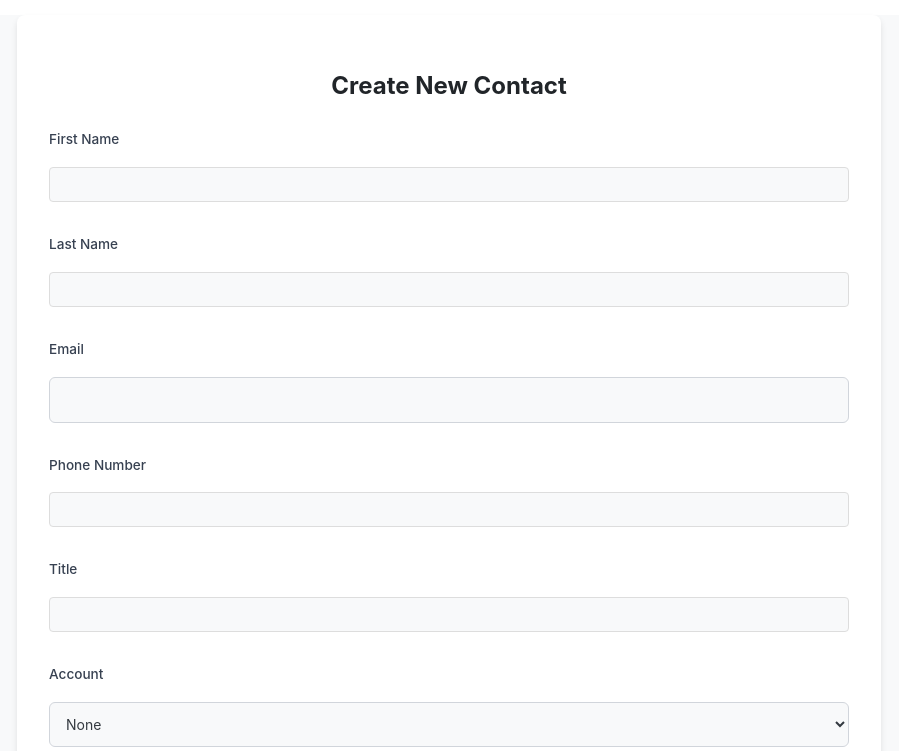
Scenario: ContactForm Component - REQ-101.1 › Form Submission - Create Mode › handles API errors gracefully
Note: Fill required fields
Step 1. Type "Jane" into the field labelled "First Name" → (449,184), box top-left (49, 167), bottom-right (849, 202)
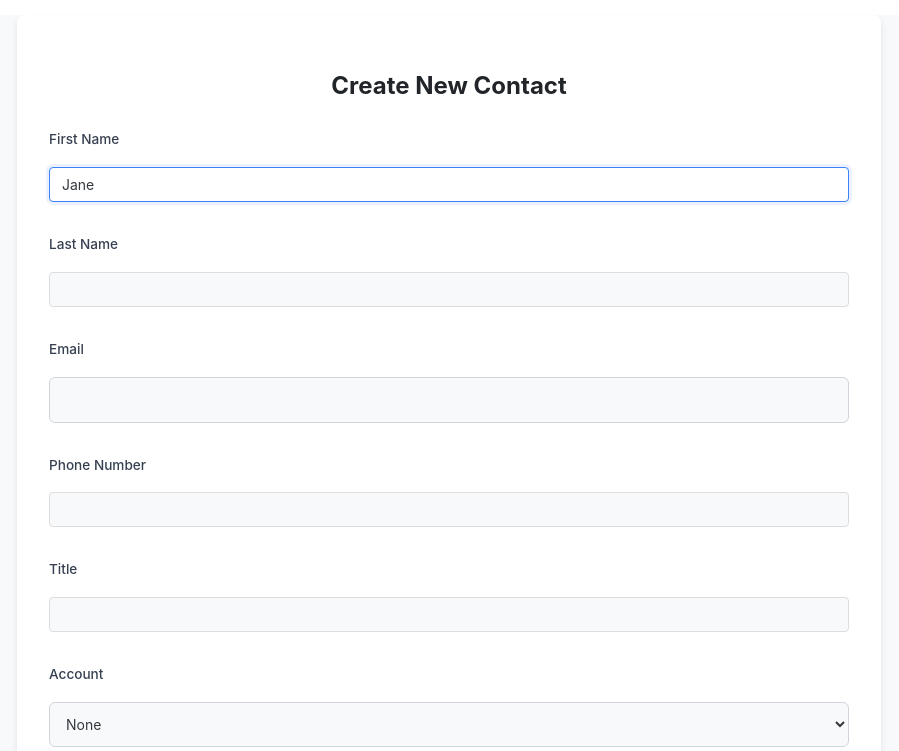
Step 2. Type "Smith" into the field labelled "Last Name" → (449,289), box top-left (49, 272), bottom-right (849, 307)
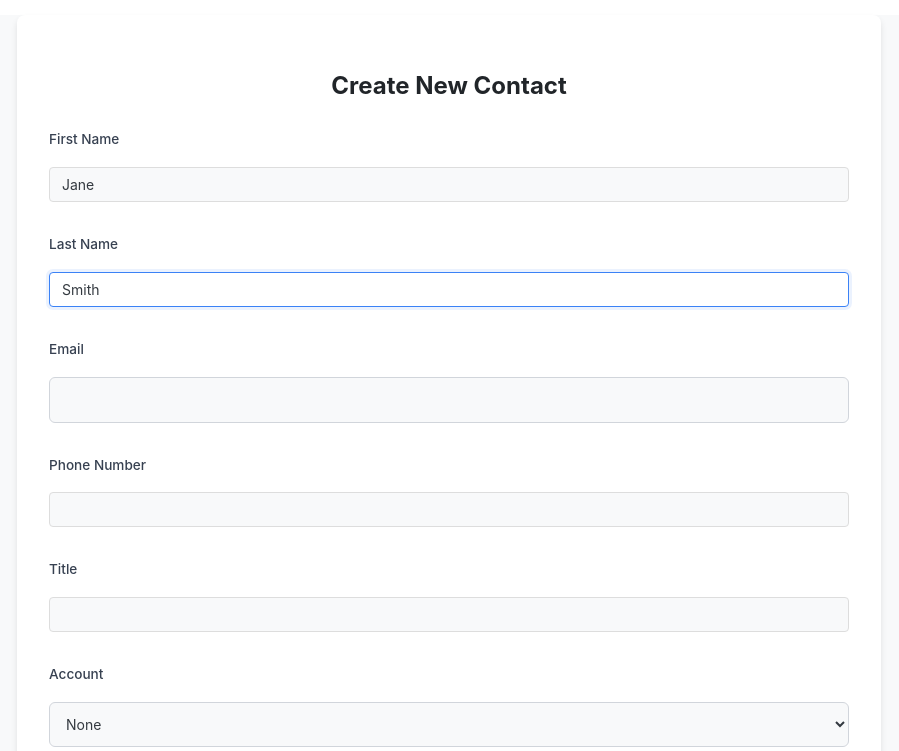
Step 3. Type "existing@example.com" into the field labelled "Email" → (449,400), box top-left (49, 376), bottom-right (849, 422)
(page scrolled)
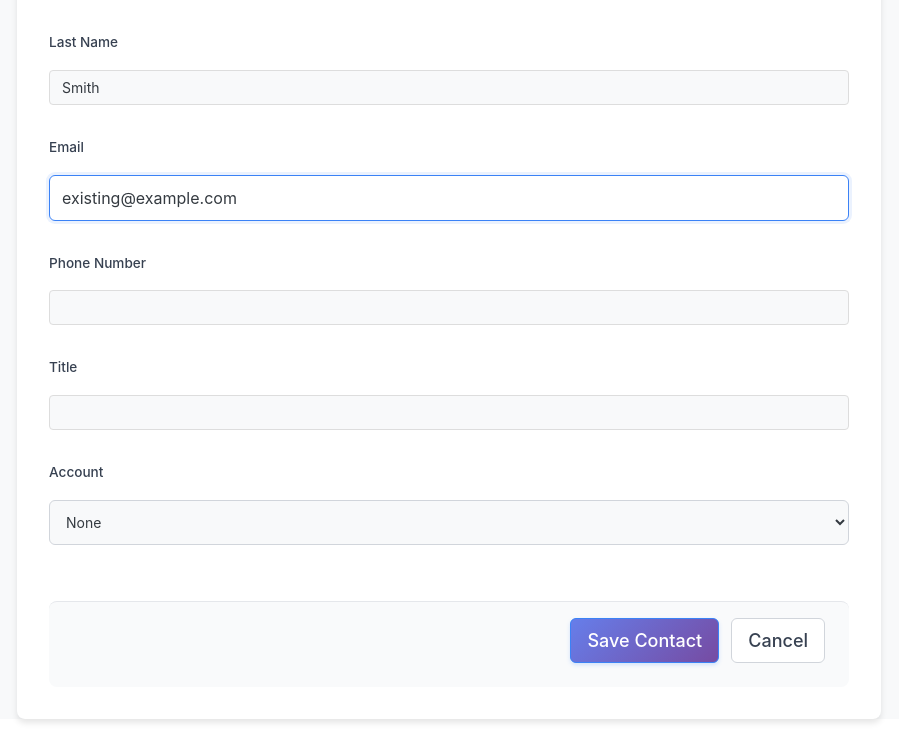
Step 4. Click the button "Save Contact" → (645,640), box top-left (570, 618), bottom-right (719, 663)
(page scrolled)
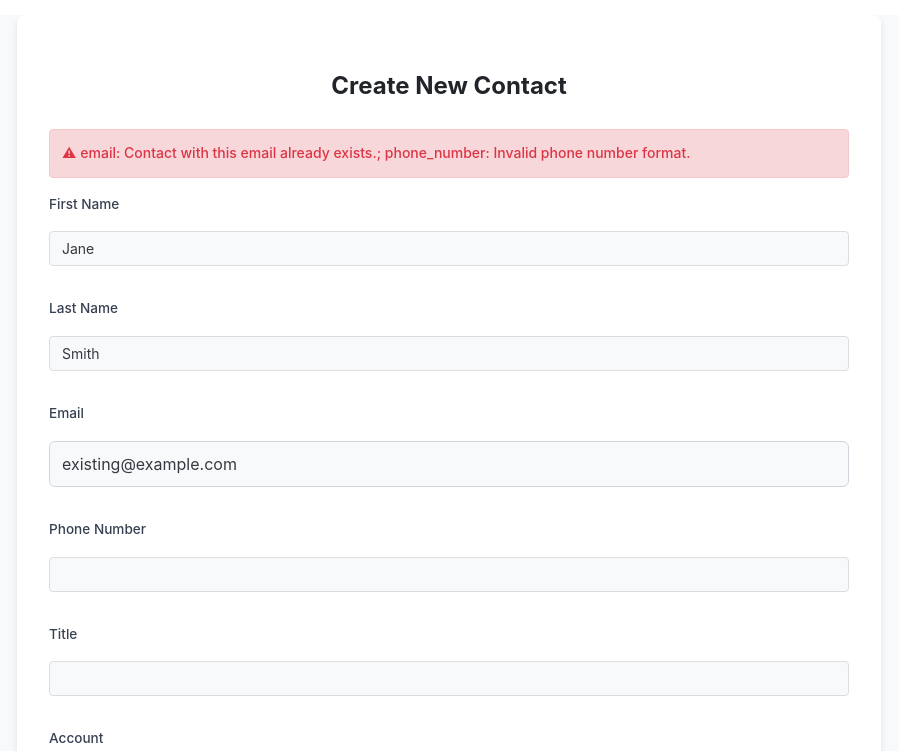
Expected: the text "phone_number: Invalid phone number format" is shown, top-left (80, 144), bottom-right (690, 161)
